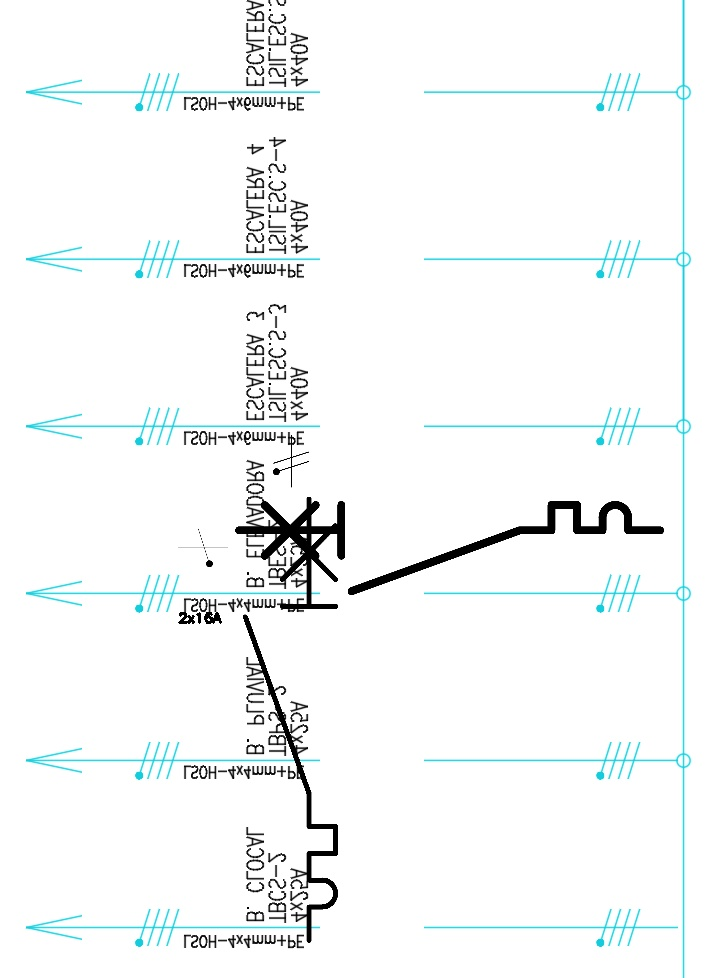interruptor_termomagnetico: (234, 487, 347, 951), (228, 494, 671, 602)
